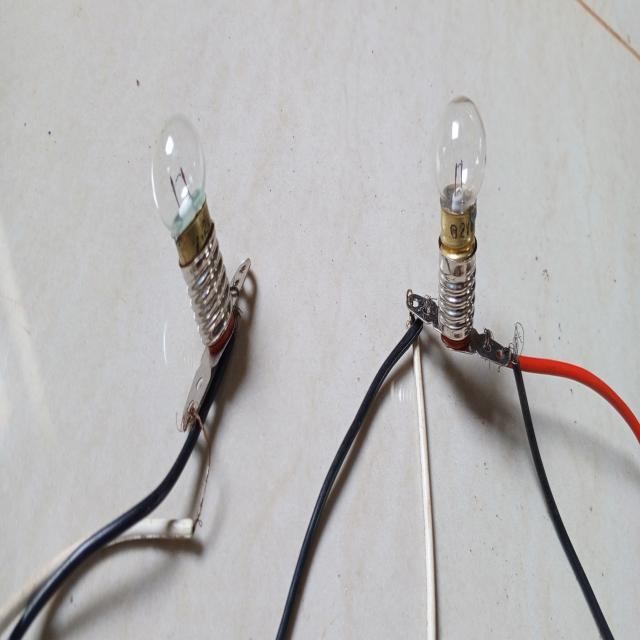Electric Bulbs: (137, 91, 527, 406)
